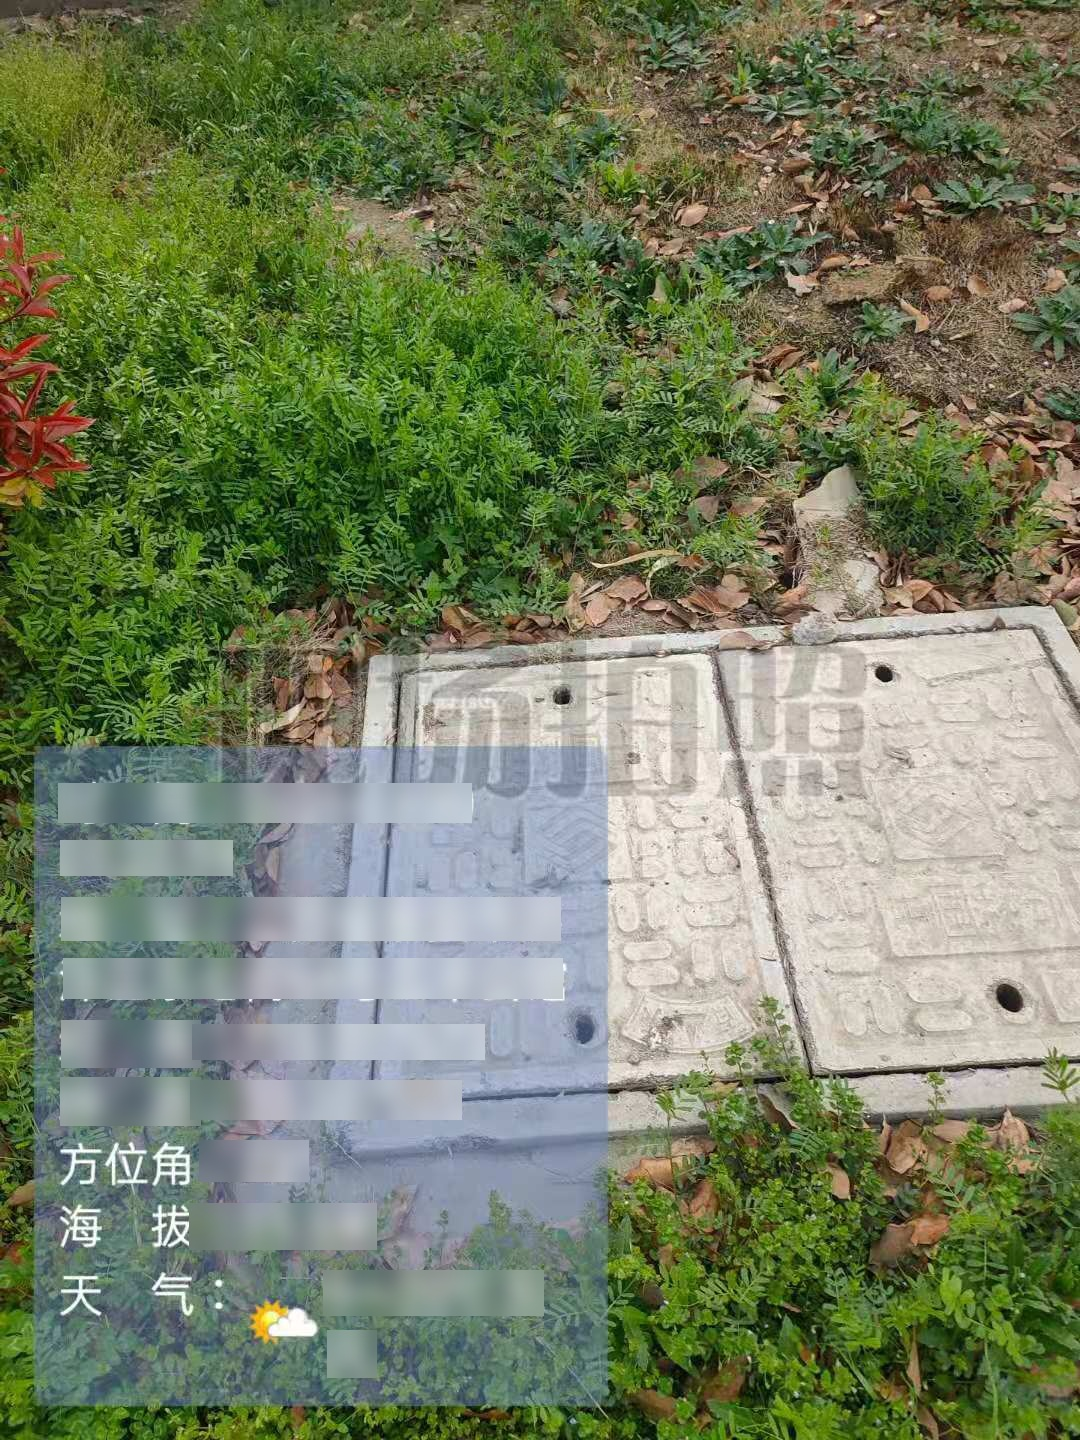good: (322, 604, 1080, 1155)
